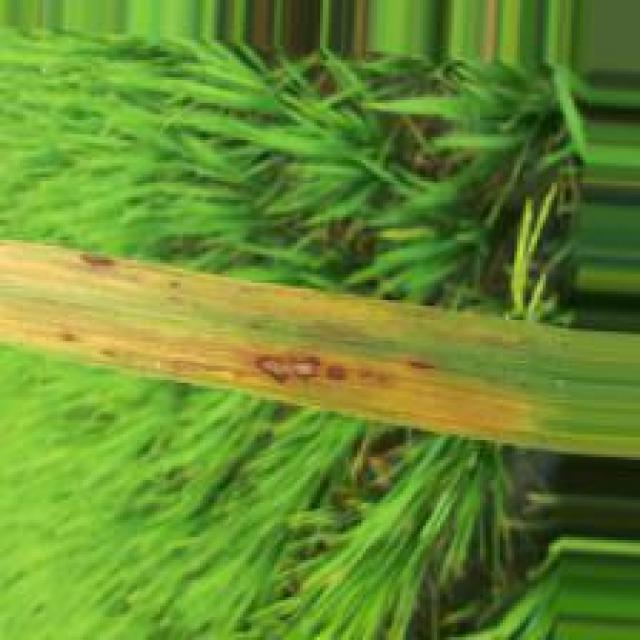Leaf_Blast: (253, 353, 324, 391), (75, 252, 113, 272), (324, 357, 351, 384)
